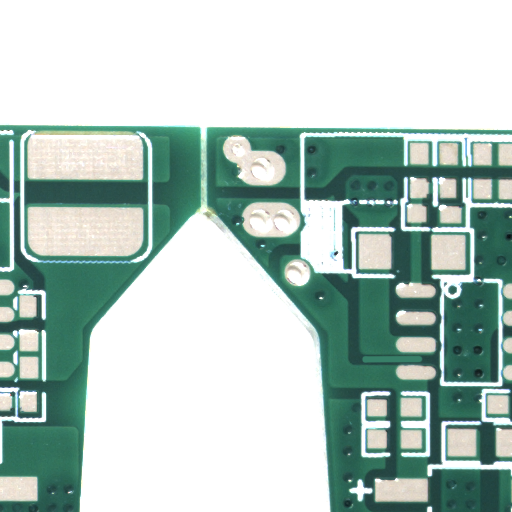Spurious_copper: (391, 359, 452, 368)
